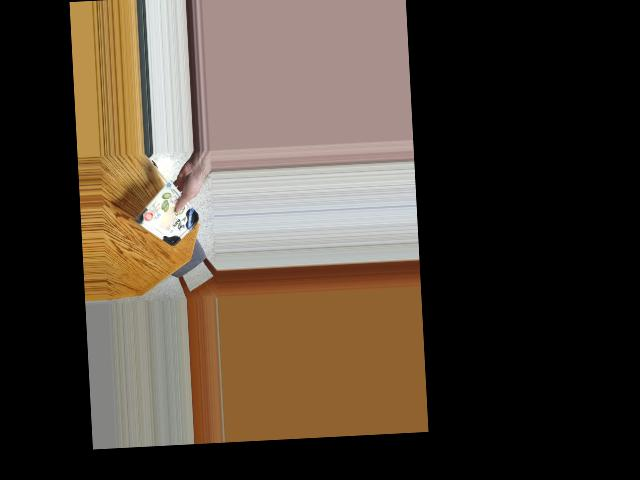cheese: (142, 191, 200, 241)
